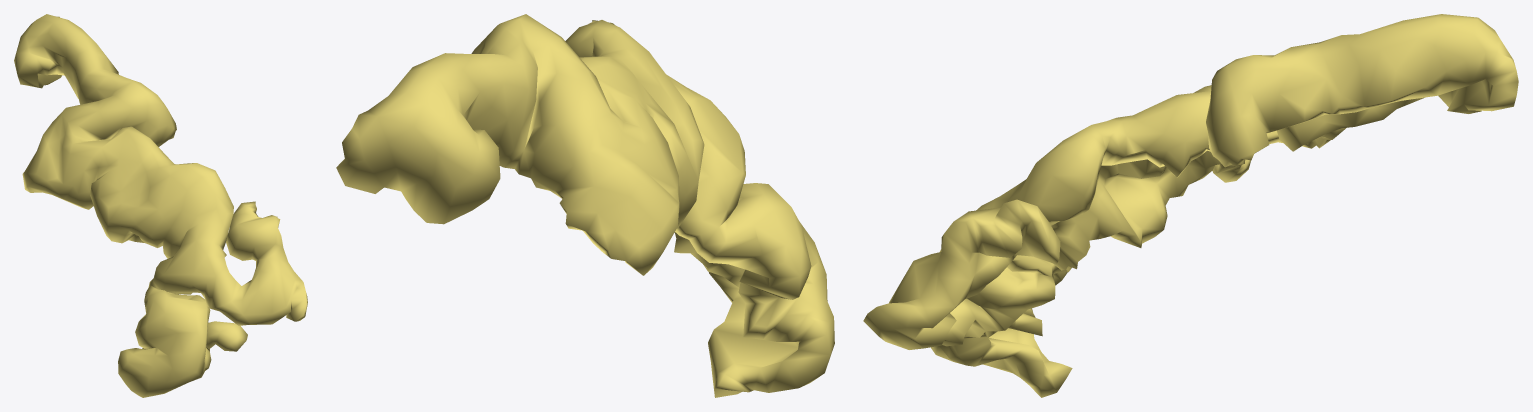
File: middle-frontal-gyrus-r.glb
The picture shows the model from 3 angles, left to right: view 1: azimuth 30°, elevation 25°; view 2: azimuth 150°, elevation 25°; view 3: azimuth 270°, elevation 25°; orthographic projection. The views are drawn at different scales.
Parts seen in each view (by area): view 1: Middle frontal gyrus.r; view 2: Middle frontal gyrus.r; view 3: Middle frontal gyrus.r.
Boxes of the visible parts, x1,y1,x2,y2 form: Middle frontal gyrus.r: (14,14,307,397); Middle frontal gyrus.r: (336,14,834,397); Middle frontal gyrus.r: (863,14,1518,397).
Bounding box in the file's own units: 0.0393 × 0.0616 × 0.091.
